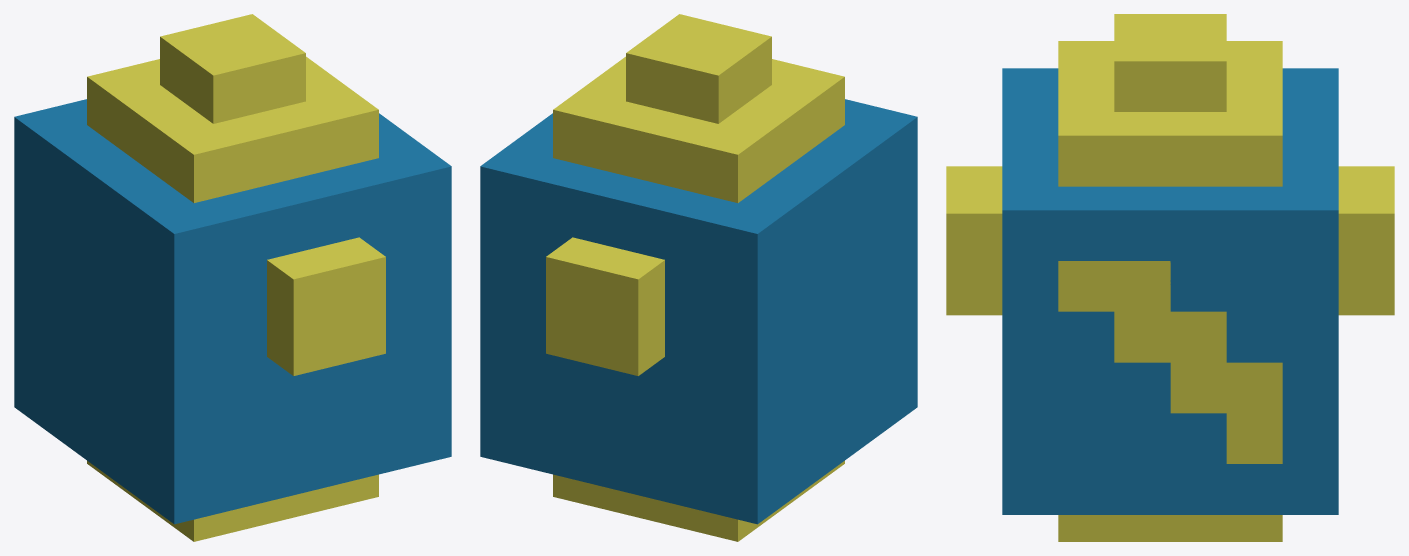
The model's file is body.fbx.
3 views of the same model, side by side, from view 1: azimuth 30°, elevation 25°; view 2: azimuth 150°, elevation 25°; view 3: azimuth 270°, elevation 25° (orthographic). The views are drawn at different scales.
Parts seen in each view (by area): view 1: model; view 2: model; view 3: model.
Boxes of the visible parts, x1=… form: model: x1=14, y1=14, x2=451, y2=541; model: x1=480, y1=14, x2=917, y2=541; model: x1=946, y1=14, x2=1394, y2=541.
Size of the model in its own units: 6 by 9 by 8.
